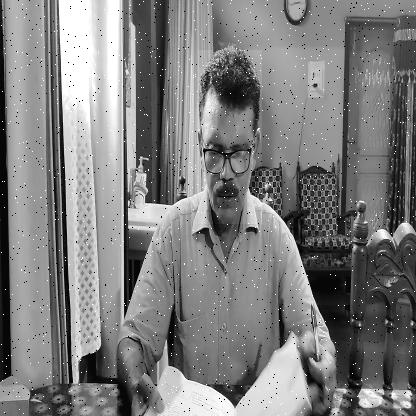Normal: (198, 50, 262, 224)
